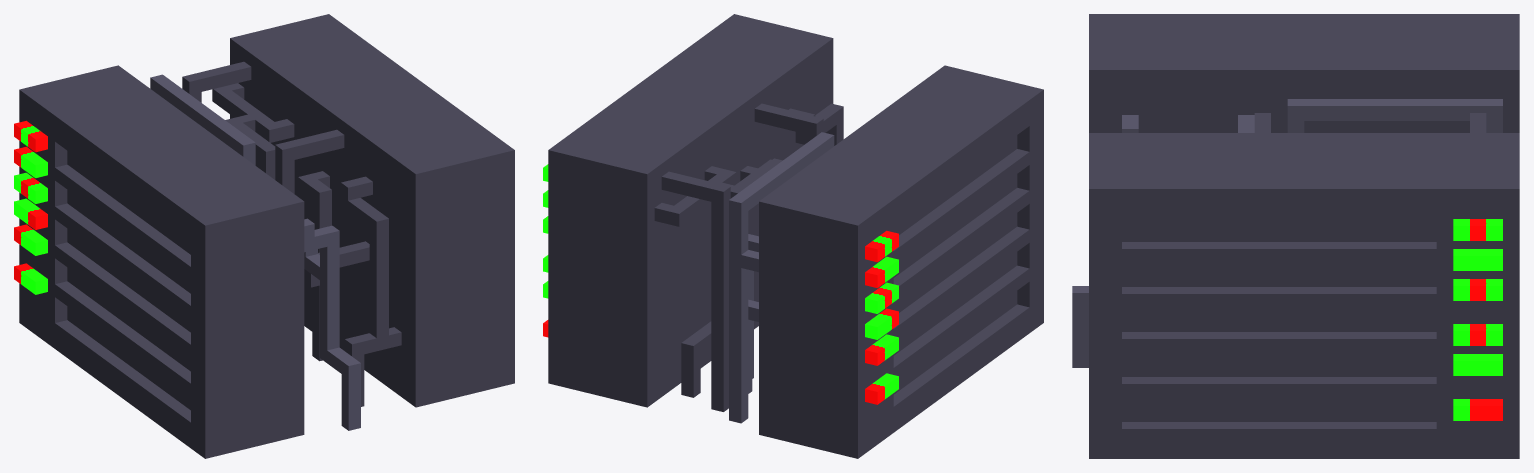
Rendered from wento_serwer.dae.
The picture shows the model from 3 angles, left to right: view 1: azimuth 30°, elevation 25°; view 2: azimuth 150°, elevation 25°; view 3: azimuth 270°, elevation 25°; orthographic projection. The views are drawn at different scales.
Parts seen in each view (by area): view 1: Content; view 2: Content; view 3: Content.
Boxes of the visible parts, box(x1,y1,x2,y2) form: Content: box(14, 14, 514, 458); Content: box(543, 14, 1043, 458); Content: box(1072, 14, 1519, 458).
Size of the model in its own units: 27 by 18 by 27.
Materials: 1 (1 with a texture image).
